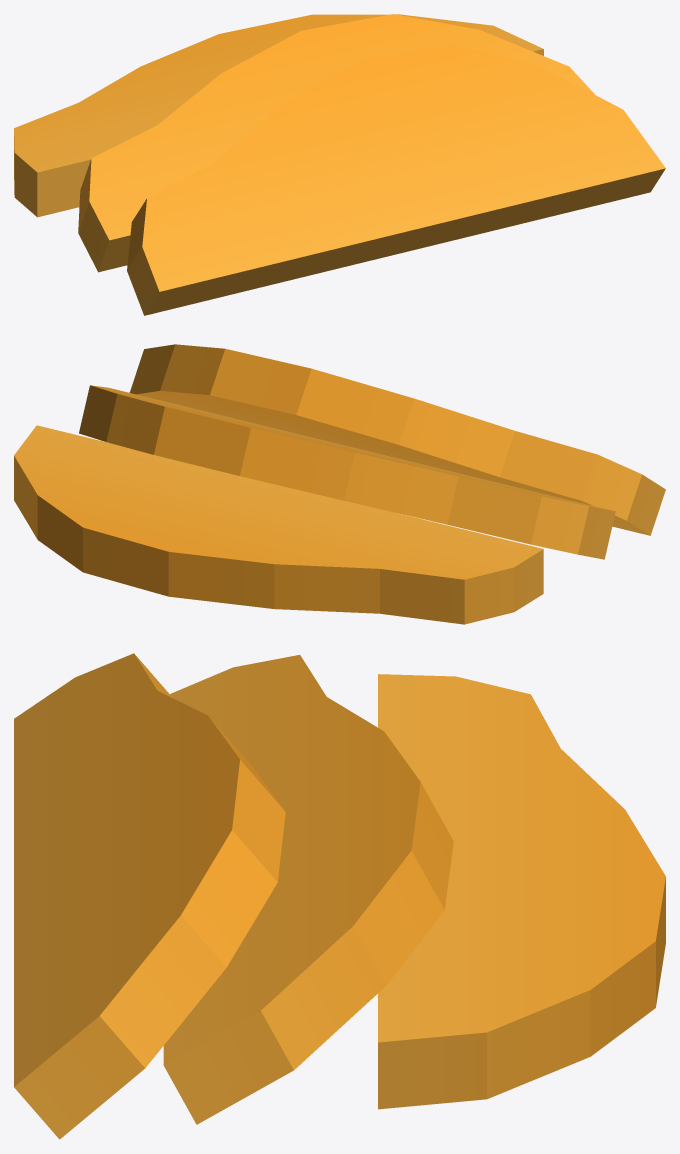
File: Papaya Slice.fbx
3 renders of one model, top to bottom at view 1: azimuth 30°, elevation 25°; view 2: azimuth 150°, elevation 25°; view 3: azimuth 270°, elevation 25°, orthographic. The views are drawn at different scales.
Visible parts, largest first — view 1: Papaya Slice.002, Papaya Slice.001, Papaya Slice; view 2: Papaya Slice, Papaya Slice.002, Papaya Slice.001; view 3: Papaya Slice.002, Papaya Slice, Papaya Slice.001.
Part boxes in pixels (box(x1,y1,x2,y2)): Papaya Slice.002: box(127, 44, 665, 315); Papaya Slice.001: box(78, 14, 594, 272); Papaya Slice: box(14, 14, 543, 217); Papaya Slice: box(14, 425, 543, 624); Papaya Slice.002: box(129, 344, 665, 535); Papaya Slice.001: box(79, 385, 615, 559); Papaya Slice.002: box(14, 653, 285, 1139); Papaya Slice: box(378, 674, 665, 1109); Papaya Slice.001: box(163, 654, 453, 1124).
Size of the model in its own units: 25.47 by 6.9 by 19.04.
